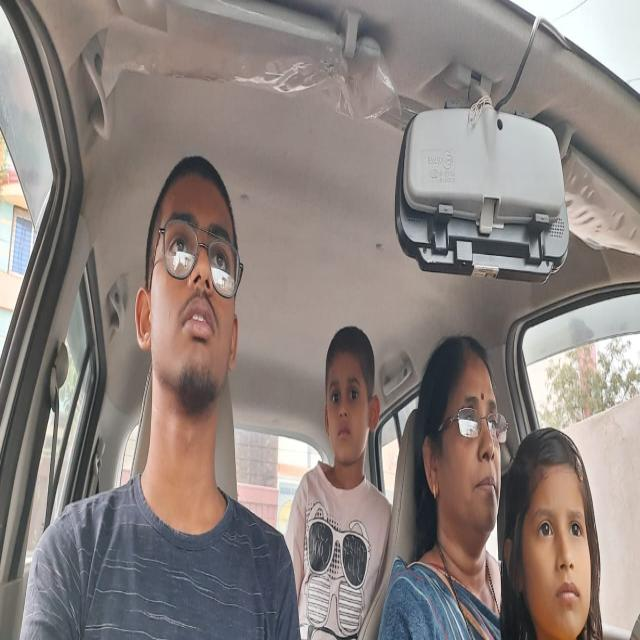child: (510, 443, 599, 640)
person: (136, 149, 245, 423), (422, 338, 504, 550), (315, 340, 382, 467)
